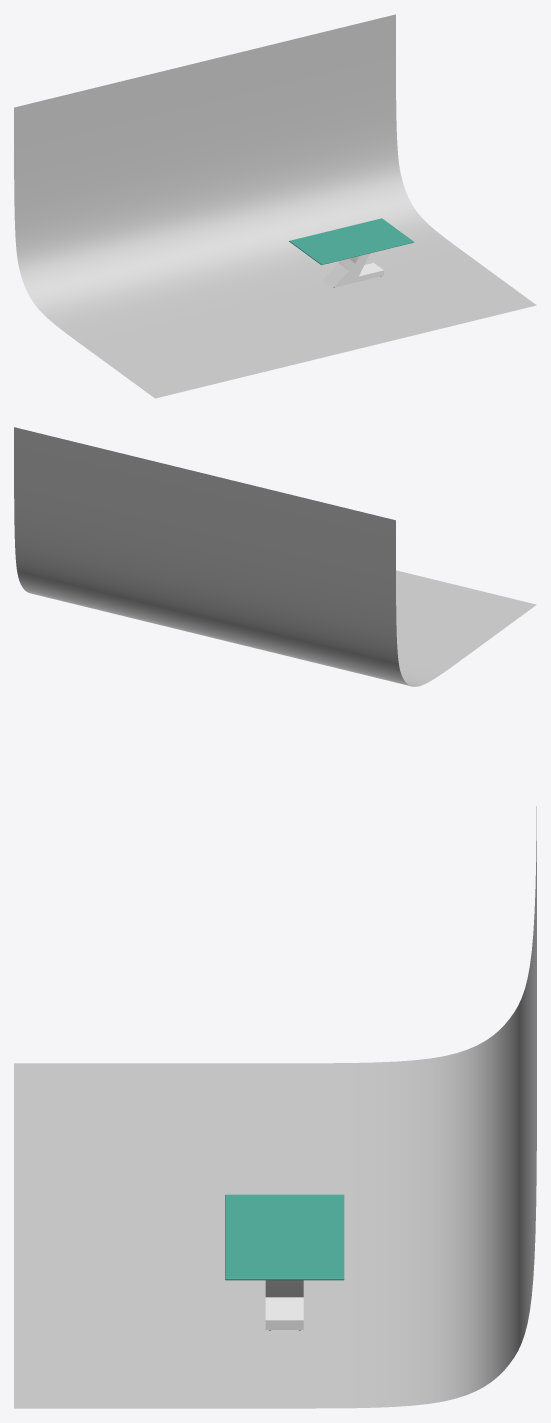
Rendered from Table 1.FBX.
3 views of the same model, one above another, from view 1: azimuth 30°, elevation 25°; view 2: azimuth 150°, elevation 25°; view 3: azimuth 270°, elevation 25° (orthographic). The views are drawn at different scales.
Visible parts, largest first — view 1: Plane001, Glass, Body; view 2: Plane001; view 3: Plane001, Glass, Body.
Boxes of the visible parts, x1,y1,x2,y2 form: Plane001: [14, 14, 536, 398]; Glass: [289, 218, 414, 264]; Body: [322, 253, 384, 287]; Plane001: [14, 427, 536, 686]; Plane001: [14, 806, 536, 1408]; Glass: [225, 1194, 344, 1280]; Body: [265, 1280, 303, 1329].
Size of the model in its own units: 246 by 116 by 158.
